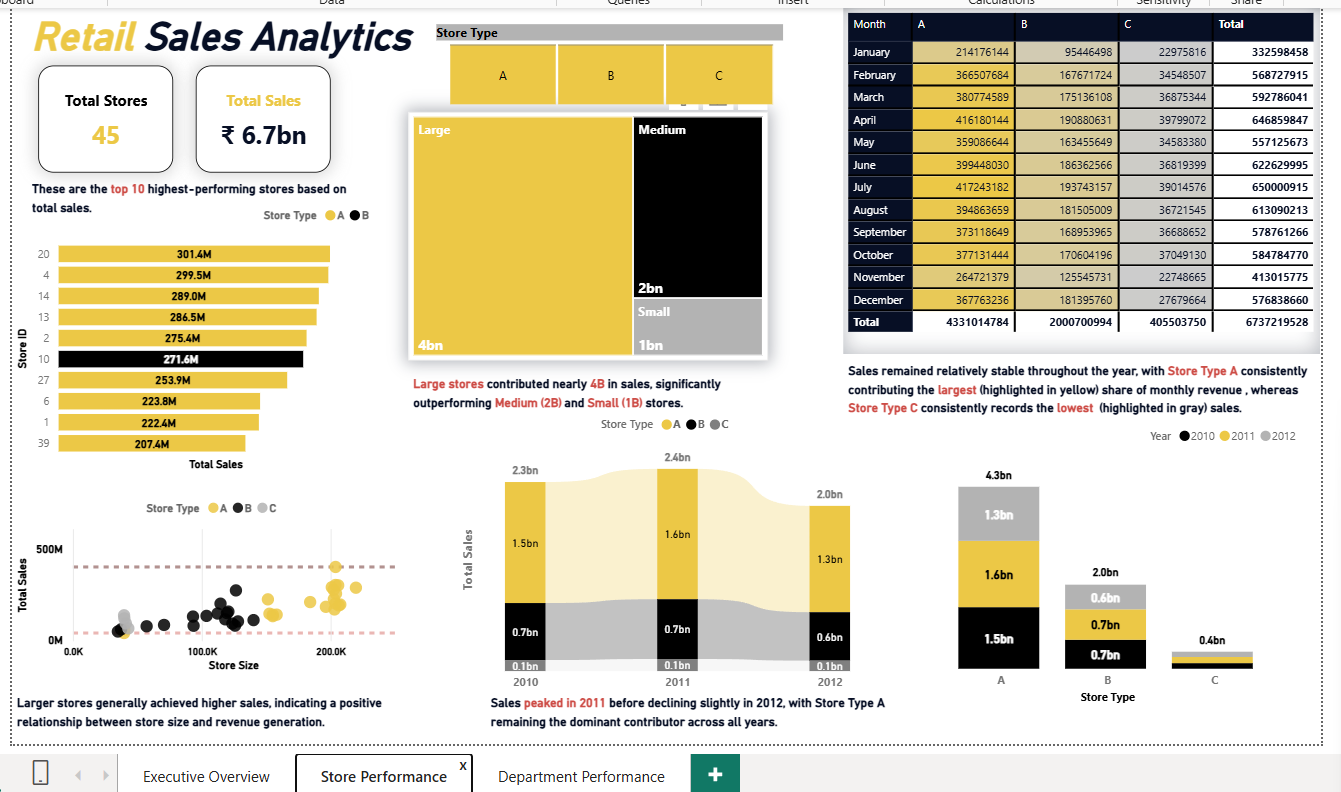

Layout of this report page (visuals, bound fields, positions):
{"tool":"powerbi","page":{"name":"Store Performance","canvas":[1280,720],"ordinal":1},"visuals":[{"type":"textbox","box":[15.1,0,548.9,64.5],"z":0},{"type":"cardVisual","fields":{"Data":["Table.Total_Sales"]},"box":[180,56.4,131.6,104.8],"z":1000},{"type":"treemap","fields":{"Group":["gold dim_store.store_size_band"],"Values":["Table.Total_Sales"]},"box":[387.8,101.2,351.9,243.6],"z":2000},{"type":"columnChart","fields":{"Category":["gold dim_store.store_type"],"Y":["Table.Total_Sales"],"Series":["gold dim_date.full_date.Variation.Date Hierarchy.Year"]},"box":[879.4,399.4,386,284.8],"z":3000},{"type":"pivotTable","fields":{"Values":["Table.Total_Sales"],"Columns":["gold dim_store.store_type"],"Rows":["gold dim_date.full_date.Variation.Date Hierarchy.Month"]},"box":[813.1,0,466.6,338.5],"z":4000},{"type":"slicer","fields":{"Values":["gold dim_store.store_type"]},"box":[402.1,10.7,365.4,90.4],"z":5000},{"type":"ribbonChart","fields":{"Y":["Table.Total_Sales"],"Category":["gold dim_date.calendar_year"],"Series":["gold dim_store.store_type"]},"box":[436.1,388.7,408.4,287.5],"z":6000},{"type":"cardVisual","fields":{"Data":["Table.Total Stores"]},"box":[25.1,56.4,131.6,104.8],"z":7000},{"type":"barChart","fields":{"Category":["gold dim_store.store_id"],"Y":["Table.Total_Sales"],"Series":["gold dim_store.store_type"]},"box":[0,183.6,359.1,274],"z":8000},{"type":"scatterChart","fields":{"X":["gold dim_store.store_size"],"Y":["Table.Total_Sales"],"Series":["gold dim_store.store_type"]},"box":[0,469.3,394.9,184.5],"z":9000},{"type":"textbox","box":[387.8,351.9,355.5,53.7],"z":10000},{"type":"textbox","box":[813.1,338.5,466.6,67.2],"z":11000},{"type":"textbox","box":[15.2,161.2,343.9,51],"z":12000},{"type":"textbox","box":[0,664.5,381.5,55.5],"z":13000},{"type":"textbox","box":[463.9,664.5,415.5,55.5],"z":15000}]}

Visuals, with their boxes on the page's 1280x720 design canvas (x1, y1, x2, y2). These are canvas units, not pixel positions in the 1341x792 screenshot, which may show the page scaled, cropped or inside an application window:
textbox: 15, 0, 564, 64
cardVisual - Table.Total_Sales: 180, 56, 312, 161
treemap - gold dim_store.store_size_band x Table.Total_Sales: 388, 101, 740, 345
columnChart - gold dim_store.store_type x Table.Total_Sales: 879, 399, 1265, 684
pivotTable - Table.Total_Sales x gold dim_store.store_type: 813, 0, 1280, 338
slicer - gold dim_store.store_type: 402, 11, 768, 101
ribbonChart - Table.Total_Sales x gold dim_date.calendar_year: 436, 389, 844, 676
cardVisual - Table.Total Stores: 25, 56, 157, 161
barChart - gold dim_store.store_id x Table.Total_Sales: 0, 184, 359, 458
scatterChart - gold dim_store.store_size x Table.Total_Sales: 0, 469, 395, 654
textbox: 388, 352, 743, 406
textbox: 813, 338, 1280, 406
textbox: 15, 161, 359, 212
textbox: 0, 664, 382, 720
textbox: 464, 664, 879, 720
